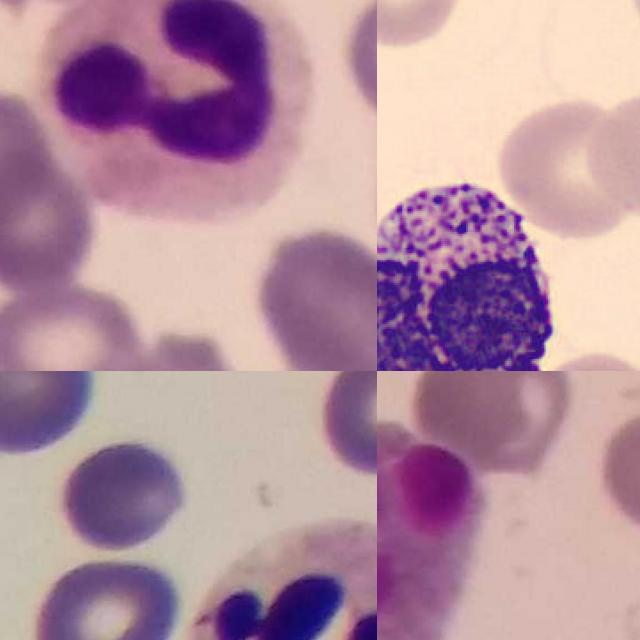Basophil: (377, 158, 569, 371)
Eosinophil: (377, 420, 490, 640)
Neutrophil: (38, 0, 310, 224), (183, 520, 377, 640)
RBC: (491, 91, 640, 239), (585, 87, 640, 224), (377, 0, 468, 52)
